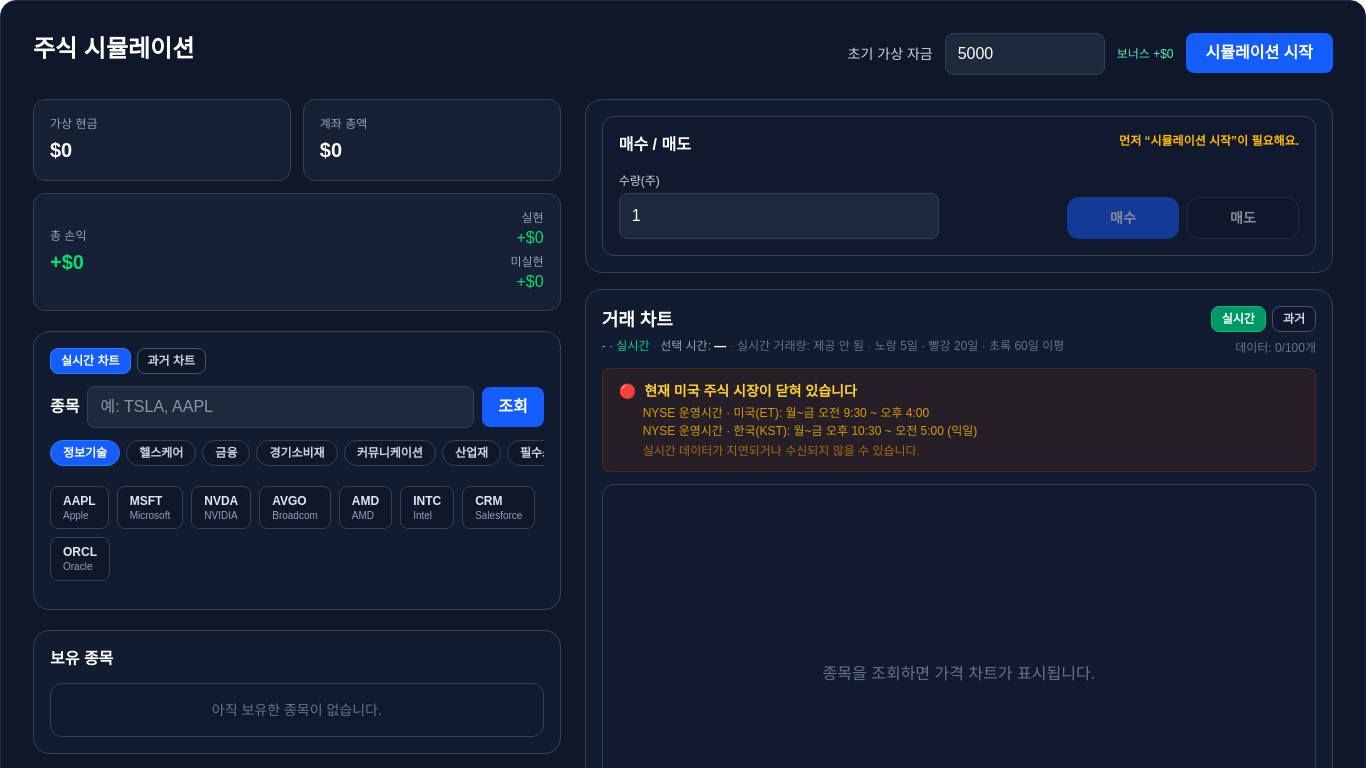
Scenario: StockSimulationSection › starts the demo account simulation locally
The width and height of the screenshot is (1366, 768).
Click the button "시뮬레이션 시작".
click(1259, 53)  # box [1186, 33, 1333, 73]
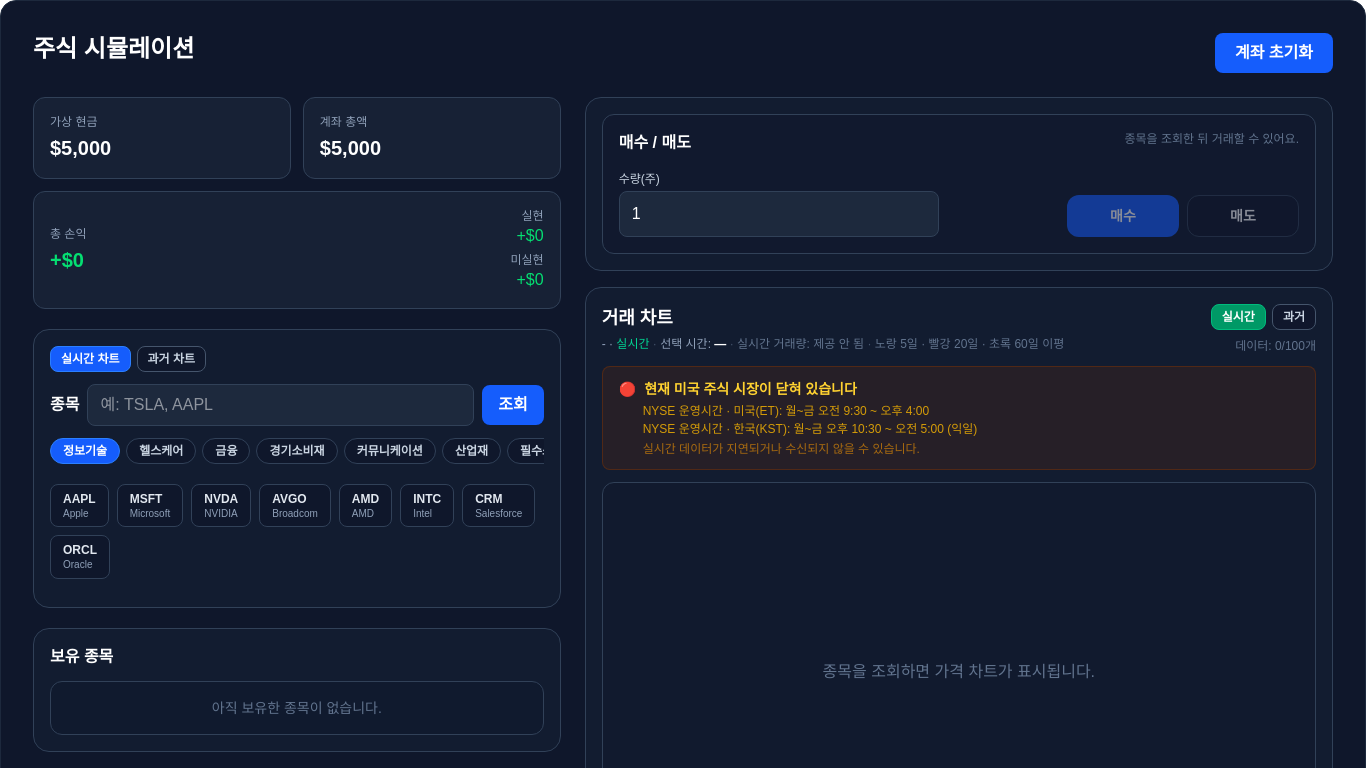
Now the button "계좌 초기화" is shown, box [1215, 33, 1333, 73]
Now the text "$5,000" below "가상 현금" is shown, box [50, 137, 111, 159]
